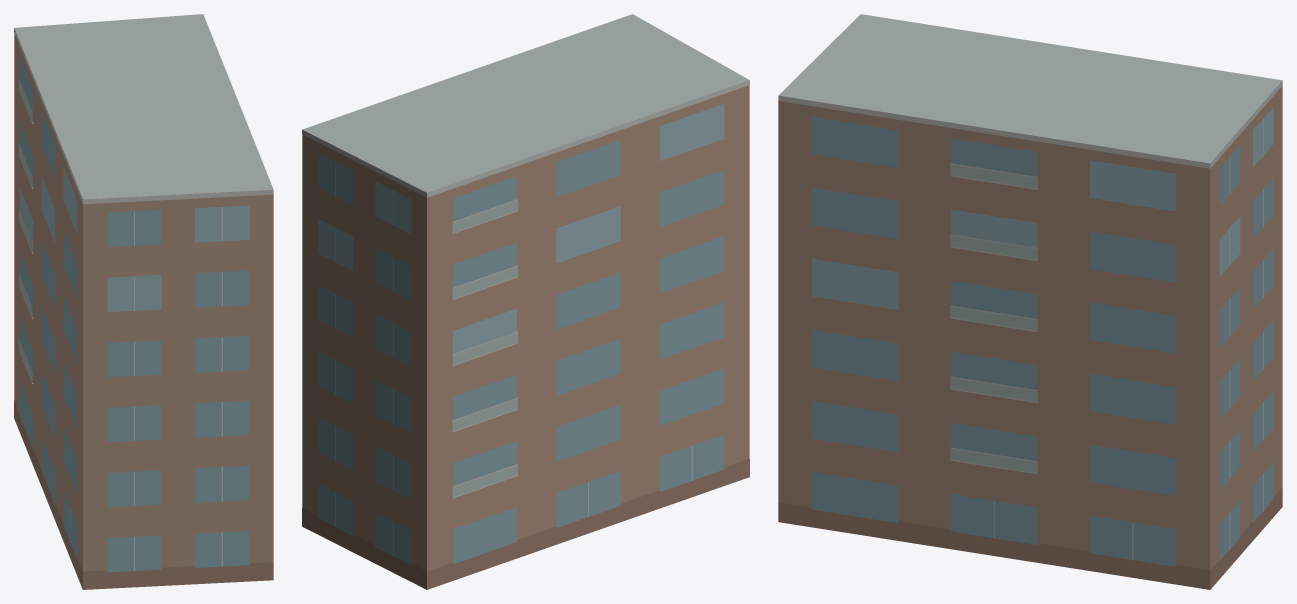
File: survey-upis-32898356.glb
3 renders of one model, left to right at view 1: azimuth 30°, elevation 25°; view 2: azimuth 150°, elevation 25°; view 3: azimuth 270°, elevation 25°, orthographic. The views are drawn at different scales.
Visible parts, largest first — view 1: survey-upis-32898356.tmp; view 2: survey-upis-32898356.tmp; view 3: survey-upis-32898356.tmp.
Part boxes in pixels (x1,y1,x2,y2): survey-upis-32898356.tmp: (14, 14, 273, 589); survey-upis-32898356.tmp: (302, 14, 749, 589); survey-upis-32898356.tmp: (778, 14, 1282, 589).
Size of the model in its own units: 14.89 by 19.8 by 21.23.
